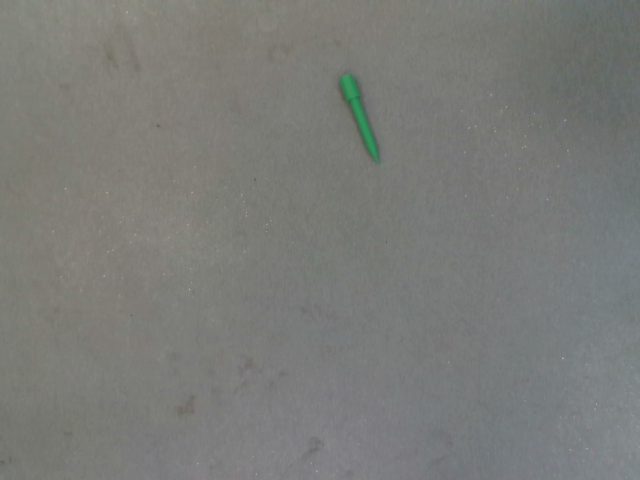Probe: (334, 68, 387, 171)
